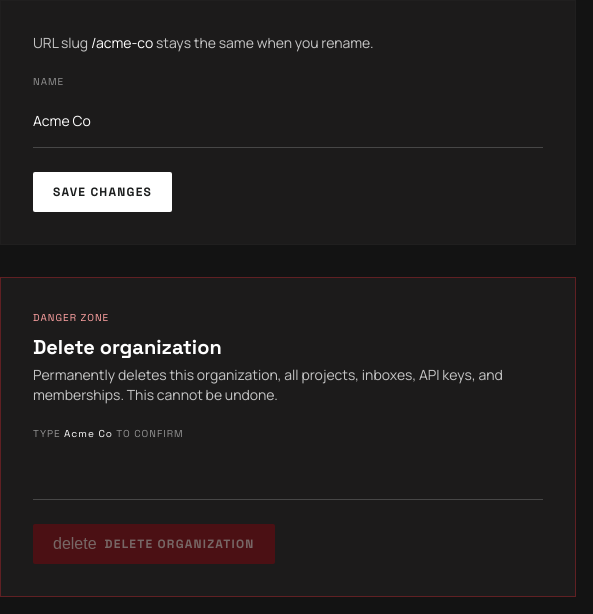
OrgGeneralSettings › enables delete only when the typed name matches exact casing
Type "ACME CO" into the field labelled "Type Acme Co to confirm" at (288, 474), box [33,447,543,500]
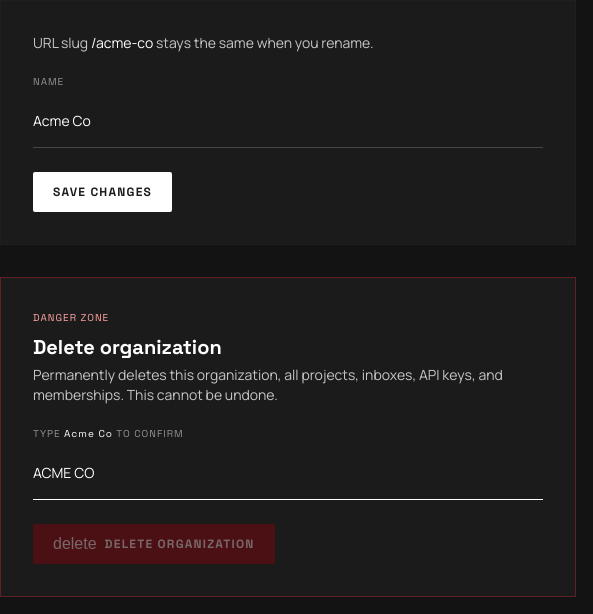
Check: the button "Delete organization" is disabled, box [33,524,274,564]
Replace the text in the field labelled "Type Acme Co to confirm" with "Acme Co" at (288, 474), box [33,447,543,500]
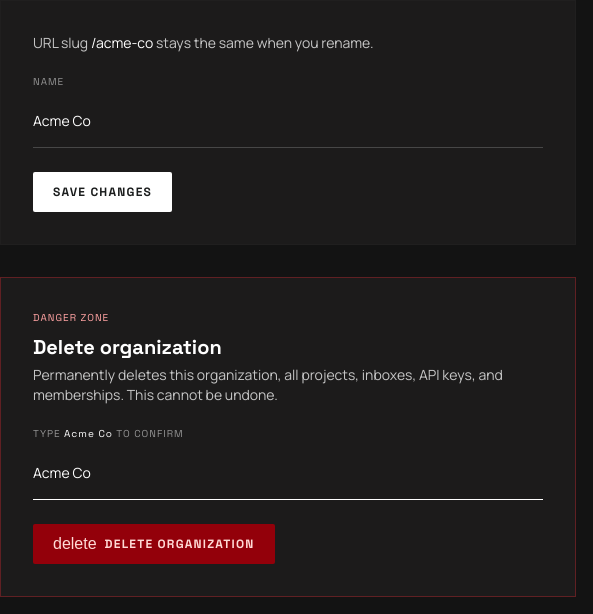
Check: the button "Delete organization" is enabled, box [33,524,274,564]
